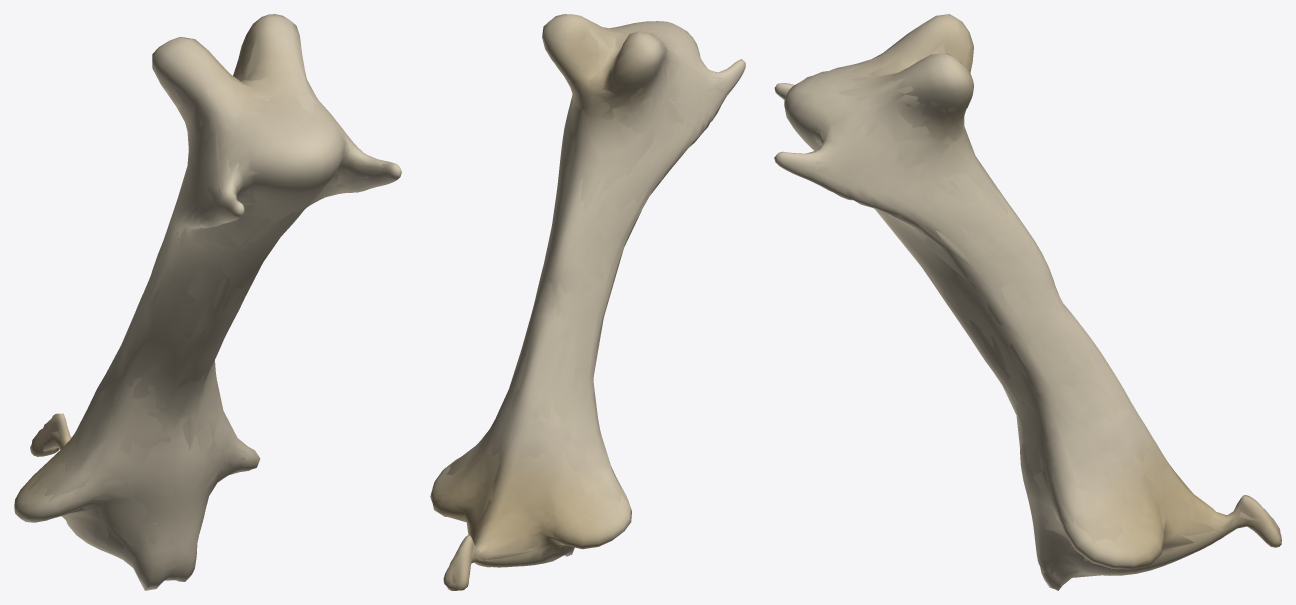
Rendered from vertebrae caudales 06.fbx.
3 views of the same model, side by side, from view 1: azimuth 30°, elevation 25°; view 2: azimuth 150°, elevation 25°; view 3: azimuth 270°, elevation 25° (orthographic). The views are drawn at different scales.
Parts seen in each view (by area): view 1: vertebrae caudales 06 high, vertebrae caudales 06 low, vertebrae caudales 06; view 2: vertebrae caudales 06 high, vertebrae caudales 06 low, vertebrae caudales 06; view 3: vertebrae caudales 06 high, vertebrae caudales 06 low, vertebrae caudales 06.
Part boxes in pixels (x1,y1,x2,y2): vertebrae caudales 06 high: (14,14,401,590); vertebrae caudales 06 low: (28,39,382,583); vertebrae caudales 06: (33,36,386,580); vertebrae caudales 06 high: (430,14,745,590); vertebrae caudales 06 low: (446,25,727,582); vertebrae caudales 06: (452,26,730,572); vertebrae caudales 06 high: (774,14,1281,590); vertebrae caudales 06 low: (800,41,1279,586); vertebrae caudales 06: (787,55,1274,576).
Size of the model in its own units: 2.36 by 5.86 by 4.92.
1 material, 1 textured.
